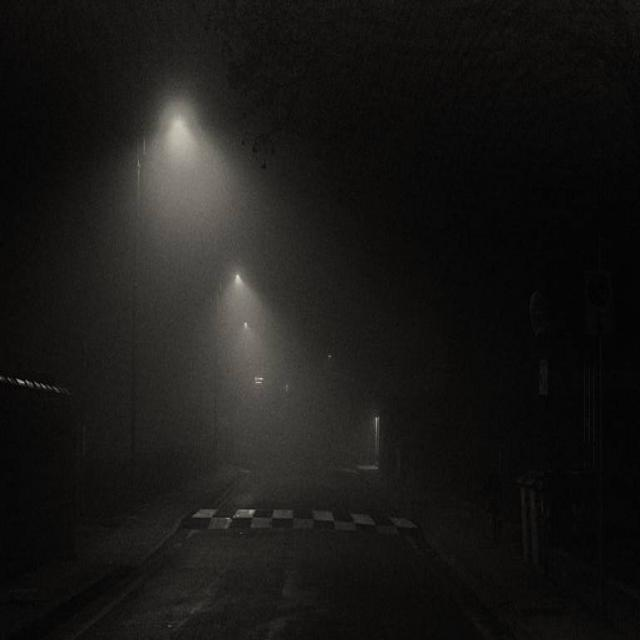Speed Bump: (170, 505, 426, 541)
